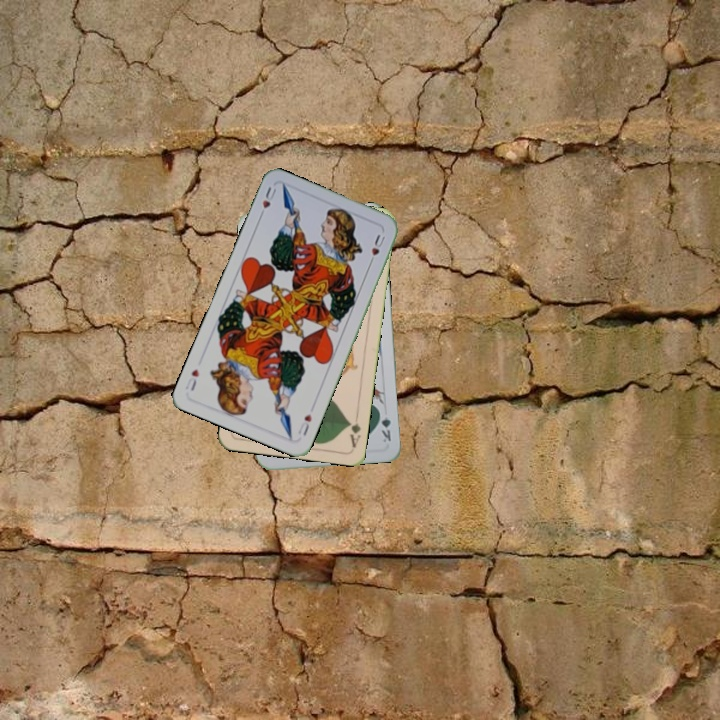GA: (344, 409, 363, 450)
GK: (375, 406, 393, 445)
HU: (255, 183, 279, 221), (294, 410, 314, 438)
